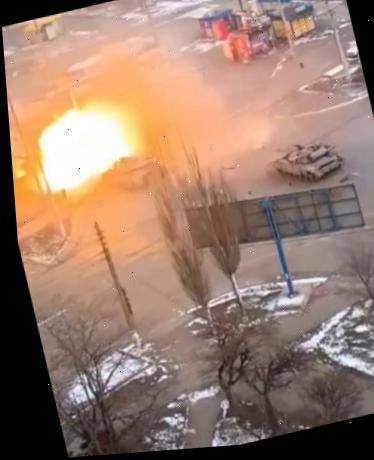tank: (256, 127, 348, 191), (87, 139, 176, 205)
